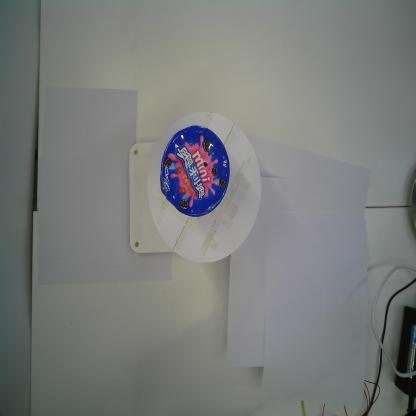Dessert: (160, 125, 230, 218)
